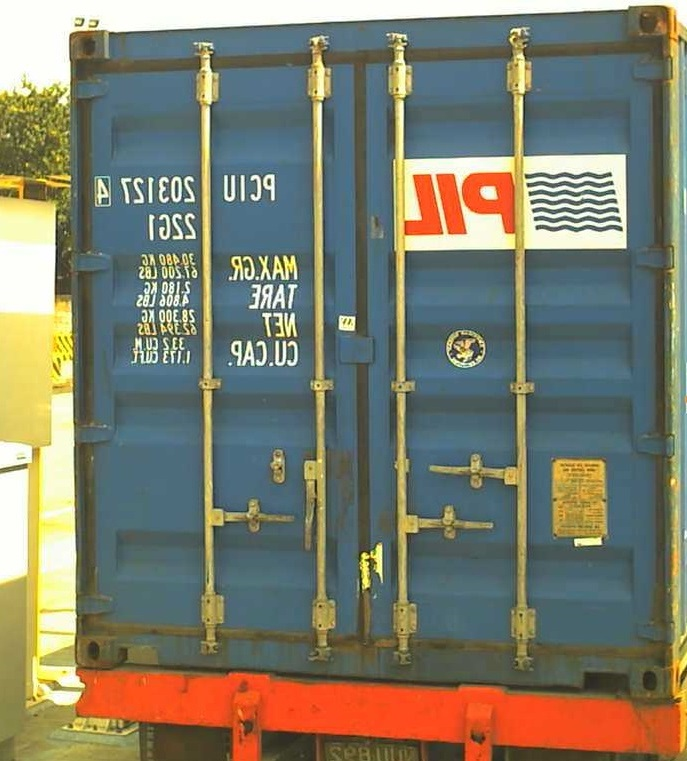container_door: (72, 1, 675, 703)
